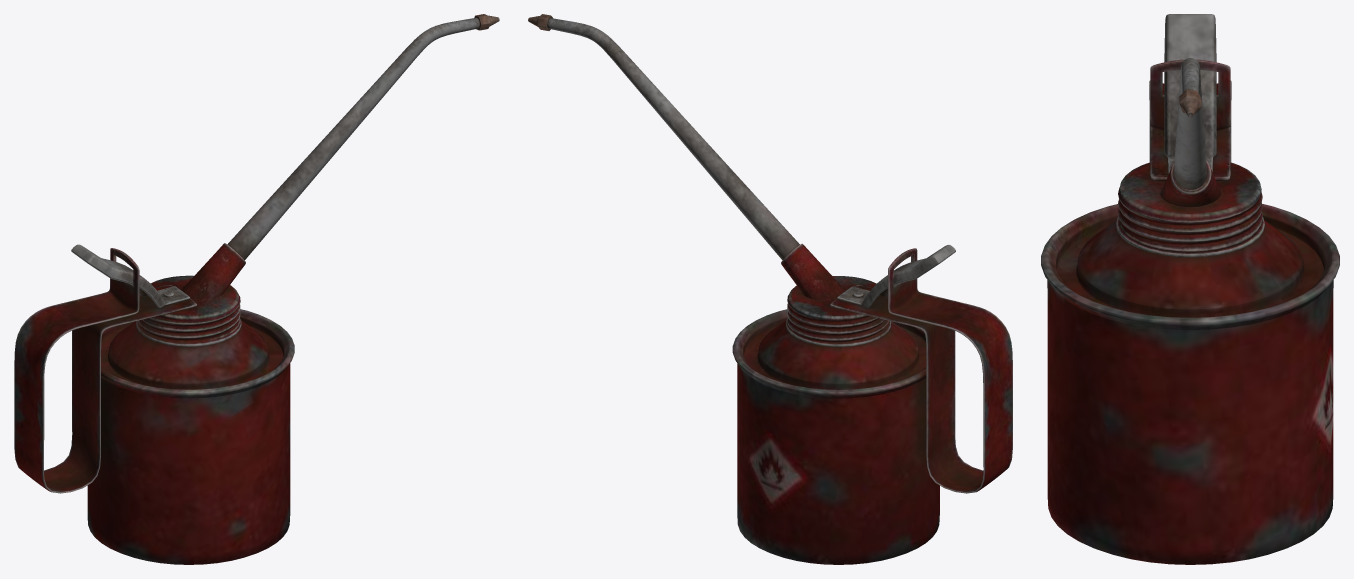
File: ph_small_oil_can_01.glb
3 views of the same model, side by side, from view 1: azimuth 30°, elevation 25°; view 2: azimuth 150°, elevation 25°; view 3: azimuth 270°, elevation 25° (orthographic). The views are drawn at different scales.
Parts seen in each view (by area): view 1: small_oil_can_01; view 2: small_oil_can_01; view 3: small_oil_can_01.
Part boxes in pixels (<box>): small_oil_can_01: <box>14,14,499,564</box>; small_oil_can_01: <box>528,14,1012,564</box>; small_oil_can_01: <box>1041,14,1339,564</box>.
Bounding box in the file's own units: 0.2661 × 0.2368 × 0.1038.
1 material, 1 textured.
